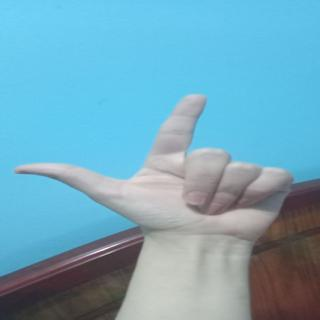LAAM: (2, 91, 320, 231)
